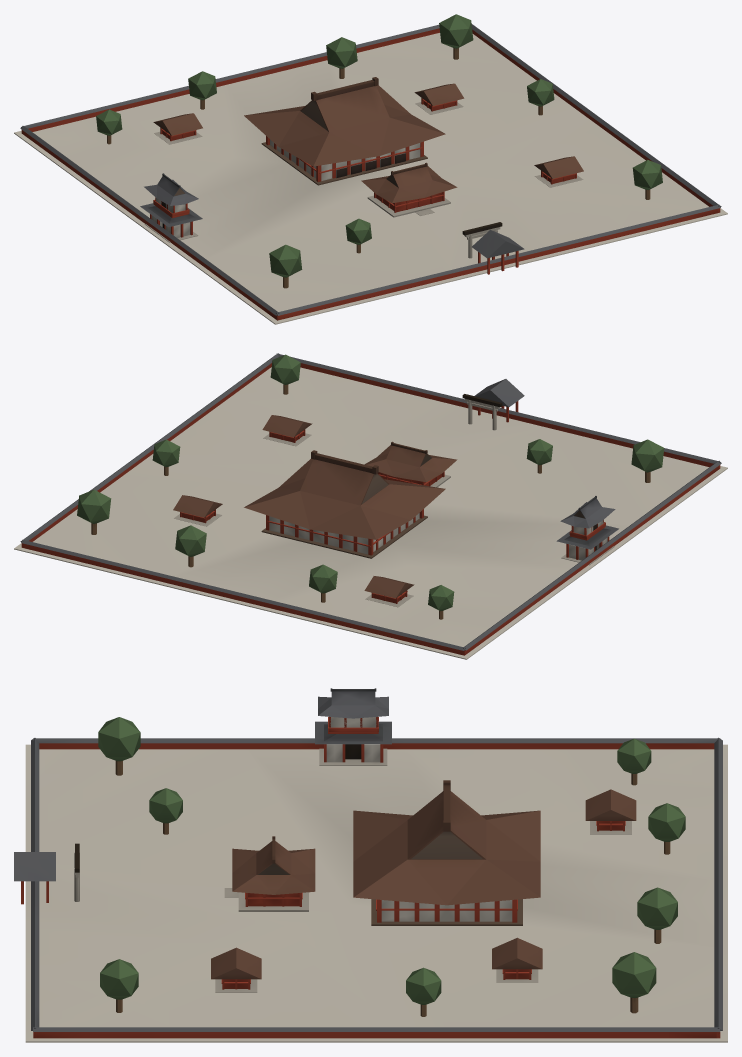
Rendered from yasaka-shrine.glb.
3 renders of one model, top to bottom at view 1: azimuth 30°, elevation 25°; view 2: azimuth 150°, elevation 25°; view 3: azimuth 270°, elevation 25°, orthographic. The views are drawn at different scales.
Visible parts, largest first — view 1: p0_grounds, p2_roofs, p1_halls; view 2: p0_grounds, p2_roofs, p1_halls; view 3: p0_grounds, p2_roofs, p1_halls.
Boxes of the visible parts, bbox=[...] form: p0_grounds: bbox=[14, 24, 727, 324]; p2_roofs: bbox=[96, 14, 662, 288]; p1_halls: bbox=[144, 98, 583, 274]; p0_grounds: bbox=[14, 353, 727, 659]; p2_roofs: bbox=[77, 354, 664, 619]; p1_halls: bbox=[174, 379, 614, 607]; p0_grounds: bbox=[25, 737, 727, 1042]; p2_roofs: bbox=[98, 688, 685, 1016]; p1_halls: bbox=[14, 717, 631, 992].
Size of the model in its own units: 150 by 21.94 by 152.
